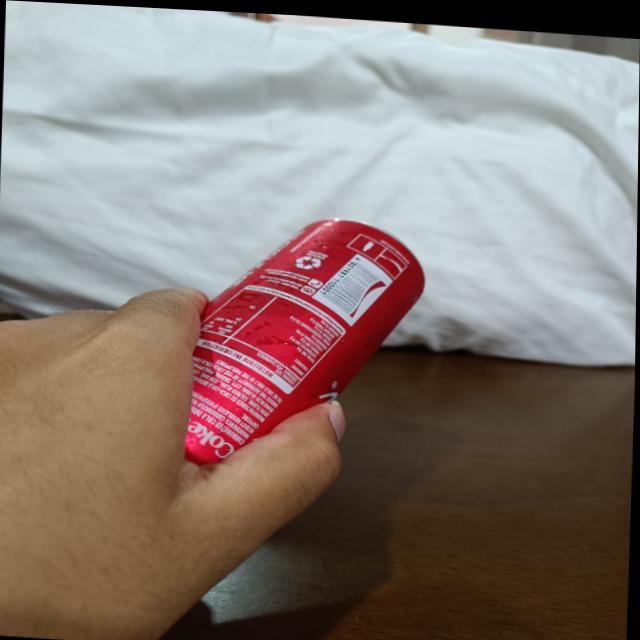coke: (120, 199, 427, 484)
